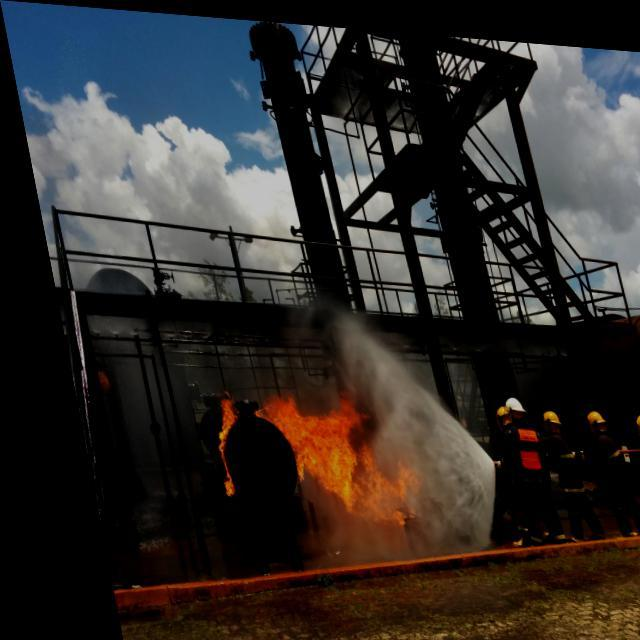Fire: (190, 386, 403, 546)
